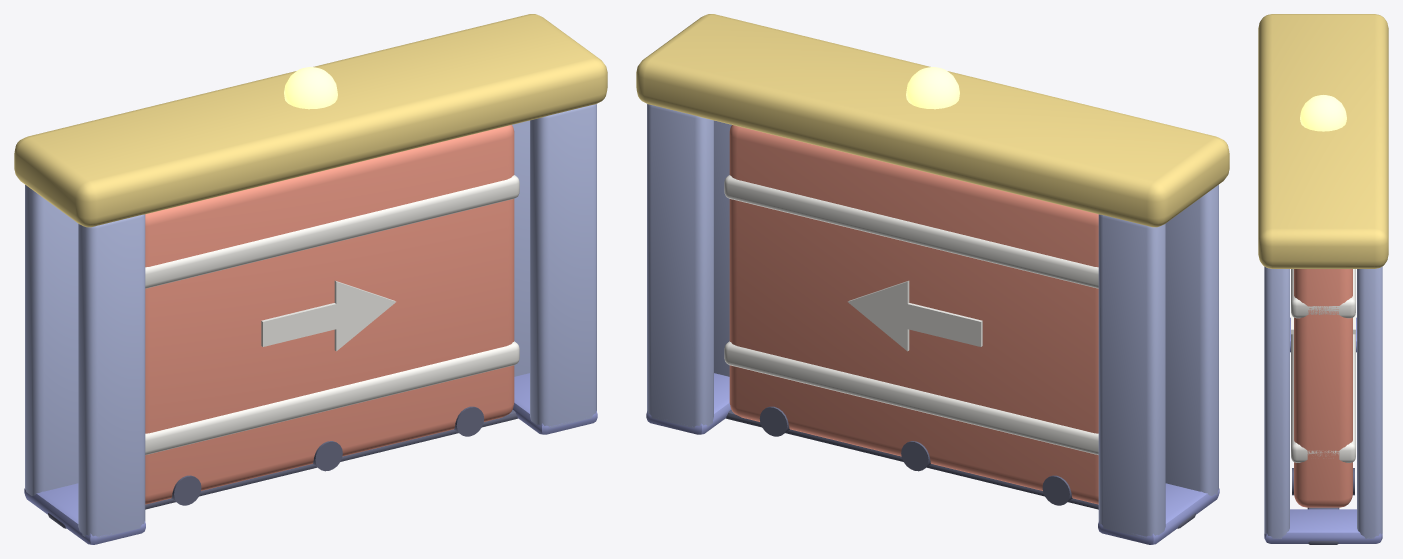
Rendered from SM_SlidingGate.fbx.
3 renders of one model, left to right at view 1: azimuth 30°, elevation 25°; view 2: azimuth 150°, elevation 25°; view 3: azimuth 270°, elevation 25°, orthographic. The views are drawn at different scales.
Parts seen in each view (by area): view 1: SM_SlidingGate_Frame, SM_SlidingGate_Panel; view 2: SM_SlidingGate_Frame, SM_SlidingGate_Panel; view 3: SM_SlidingGate_Frame, SM_SlidingGate_Panel.
Part boxes in pixels (x1,y1,x2,y2): SM_SlidingGate_Frame: (14,14,607,544); SM_SlidingGate_Panel: (145,125,519,505); SM_SlidingGate_Frame: (636,14,1229,544); SM_SlidingGate_Panel: (724,125,1098,505); SM_SlidingGate_Frame: (1258,14,1388,544); SM_SlidingGate_Panel: (1291,269,1355,507).
Bounding box in the file's own units: 2.7 × 1.91 × 0.66.
